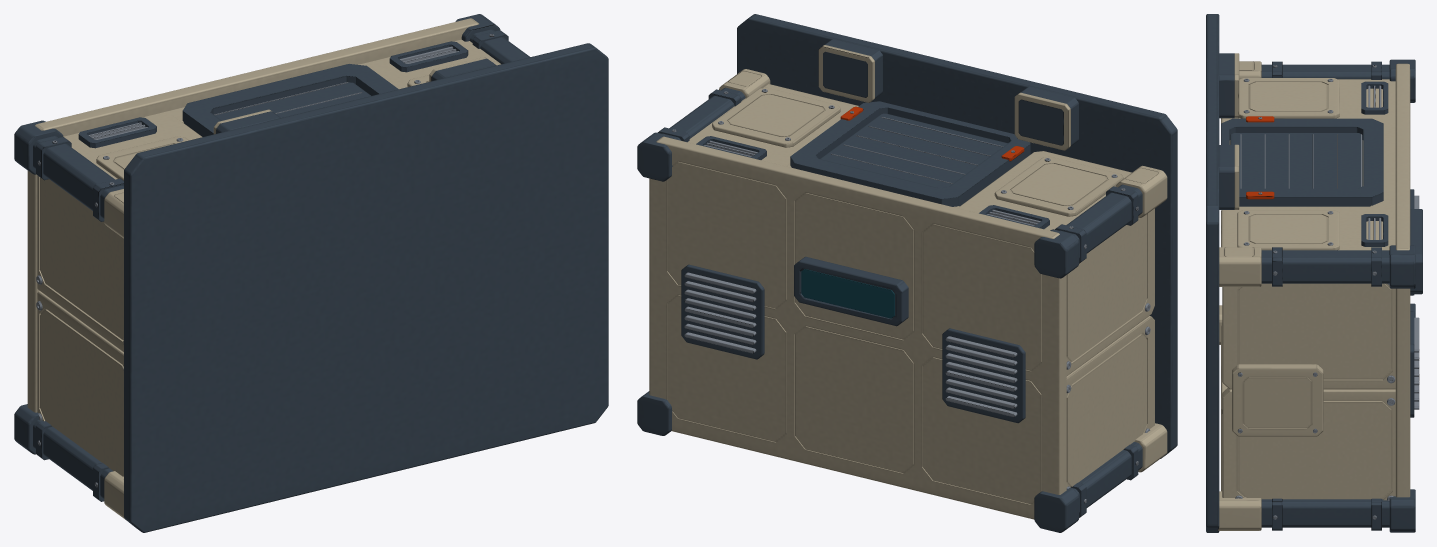
Rendered from ManufacturingWorkshop.fbx.
3 views of the same model, side by side, from view 1: azimuth 30°, elevation 25°; view 2: azimuth 150°, elevation 25°; view 3: azimuth 270°, elevation 25° (orthographic). The views are drawn at different scales.
Visible parts, largest first — view 1: base_frame, side_wall_panel, roof_deck, side_wall_panel.001, entrance_frame, corner_post.001, static_closed_door, corner_post, front_panel, front_panel.001, corner_roof_guard.001, front_vent_frame.001 (+6 smaller); view 2: roof_deck, base_frame, side_wall_panel, side_wall_panel.001, entrance_frame, static_closed_door, front_service_cover.001, front_service_cover, roof_vent_base, roof_vent_base.001, skylight_frame, skylight_window (+18 smaller); view 3: side_wall_panel.003, side_wall_panel.002, base_frame, static_closed_door, side_equipment_housing, roof_deck, entrance_frame, front_service_cover.001, front_service_cover, corner_post.003, corner_post.002, front_panel.001 (+21 smaller).
Boxes of the visible parts, left/top/right/bottom form: base_frame: left=124, top=43, right=608, bottom=532; side_wall_panel: left=37, top=291, right=123, bottom=476; roof_deck: left=27, top=18, right=478, bottom=412; side_wall_panel.001: left=37, top=175, right=123, bottom=352; entrance_frame: left=182, top=64, right=398, bottom=136; corner_post.001: left=33, top=136, right=123, bottom=218; static_closed_door: left=215, top=82, right=370, bottom=120; corner_post: left=33, top=420, right=113, bottom=498; front_panel: left=63, top=112, right=202, bottom=179; front_panel.001: left=358, top=39, right=500, bottom=89; corner_roof_guard.001: left=14, top=120, right=63, bottom=174; front_vent_frame.001: left=389, top=41, right=468, bottom=72; roof_deck: left=649, top=136, right=1066, bottom=519; base_frame: left=737, top=14, right=1177, bottom=458; side_wall_panel: left=1066, top=316, right=1154, bottom=487; side_wall_panel.001: left=1066, top=208, right=1154, bottom=375; entrance_frame: left=790, top=101, right=1030, bottom=206; static_closed_door: left=820, top=113, right=1007, bottom=188; front_service_cover.001: left=712, top=87, right=840, bottom=147; front_service_cover: left=994, top=156, right=1123, bottom=216; roof_vent_base: left=942, top=328, right=1025, bottom=423; roof_vent_base.001: left=681, top=264, right=764, bottom=359; skylight_frame: left=794, top=256, right=908, bottom=326; skylight_window: left=801, top=269, right=894, bottom=318; side_wall_panel.003: left=1222, top=283, right=1395, bottom=389; side_wall_panel.002: left=1222, top=388, right=1395, bottom=500; base_frame: left=1206, top=14, right=1219, bottom=532; static_closed_door: left=1230, top=133, right=1362, bottom=188; side_equipment_housing: left=1232, top=364, right=1323, bottom=436; roof_deck: left=1395, top=63, right=1410, bottom=497; entrance_frame: left=1221, top=118, right=1383, bottom=206; front_service_cover.001: left=1237, top=210, right=1339, bottom=250; front_service_cover: left=1239, top=78, right=1339, bottom=118; corner_post.003: left=1261, top=250, right=1389, bottom=283; corner_post.002: left=1261, top=499, right=1389, bottom=527; front_panel.001: left=1221, top=206, right=1395, bottom=250.
Size of the model in its own units: 800 by 600 by 360.
